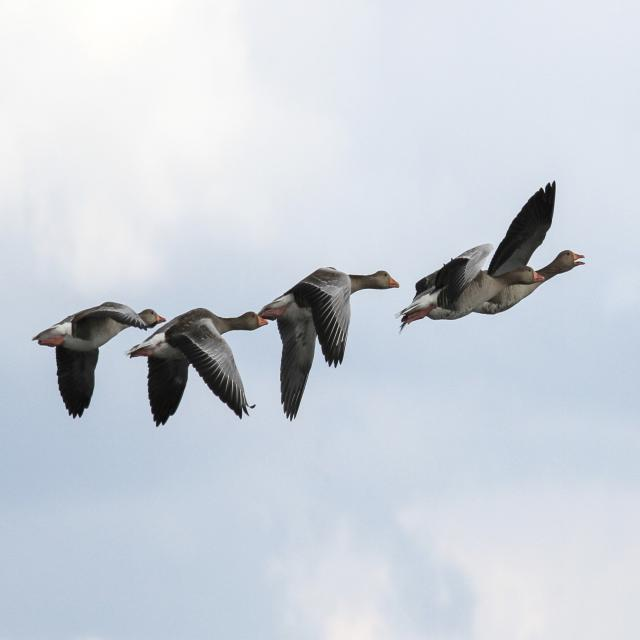bird: (394, 171, 576, 339), (238, 270, 390, 425), (32, 306, 159, 422), (127, 315, 258, 425)
